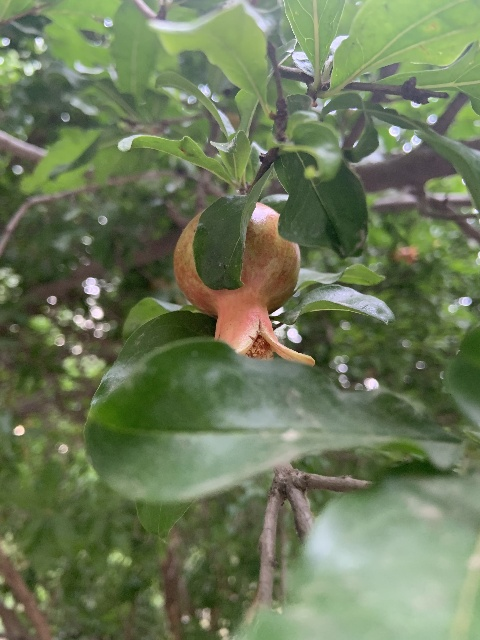early-fruit: (172, 199, 314, 366)
